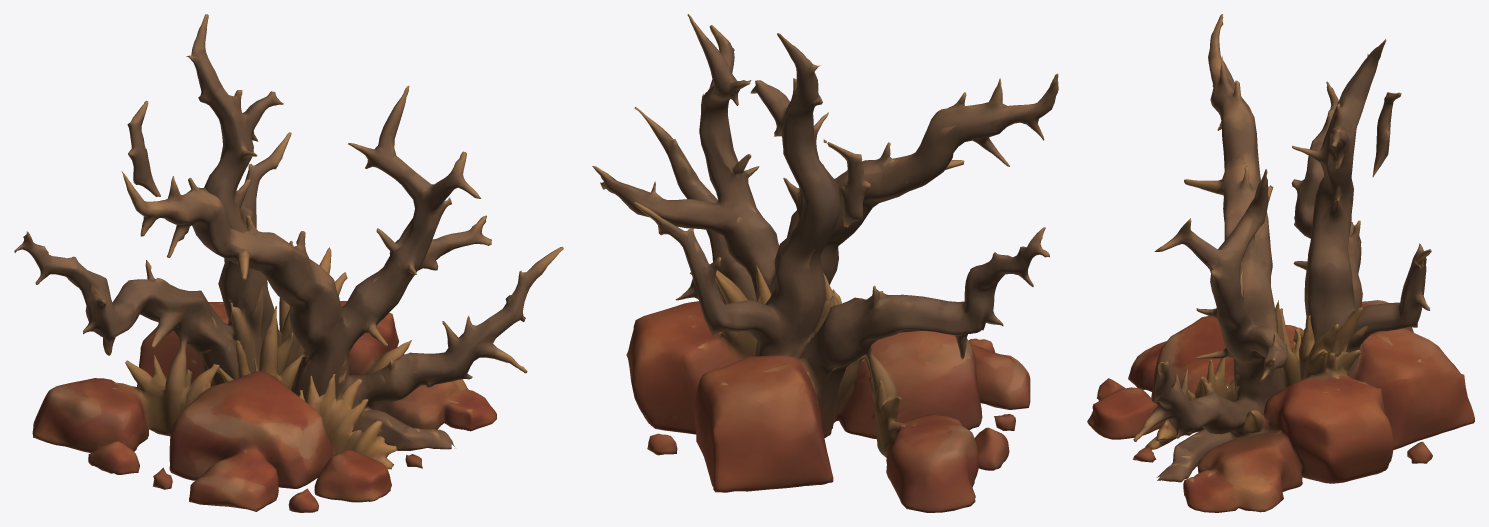
Rendered from dry_shrub.glb.
The picture shows the model from 3 angles, left to right: view 1: azimuth 30°, elevation 25°; view 2: azimuth 150°, elevation 25°; view 3: azimuth 270°, elevation 25°; orthographic projection. The views are drawn at different scales.
Visible parts, largest first — view 1: tripo_node_0e862824; view 2: tripo_node_0e862824; view 3: tripo_node_0e862824.
Boxes of the visible parts, x1=… form: tripo_node_0e862824: x1=14, y1=14, x2=563, y2=512; tripo_node_0e862824: x1=592, y1=14, x2=1058, y2=512; tripo_node_0e862824: x1=1087, y1=14, x2=1474, y2=512.
Size of the model in its own units: 96 by 76.31 by 70.9.
Materials: 1 (1 with a texture image).
